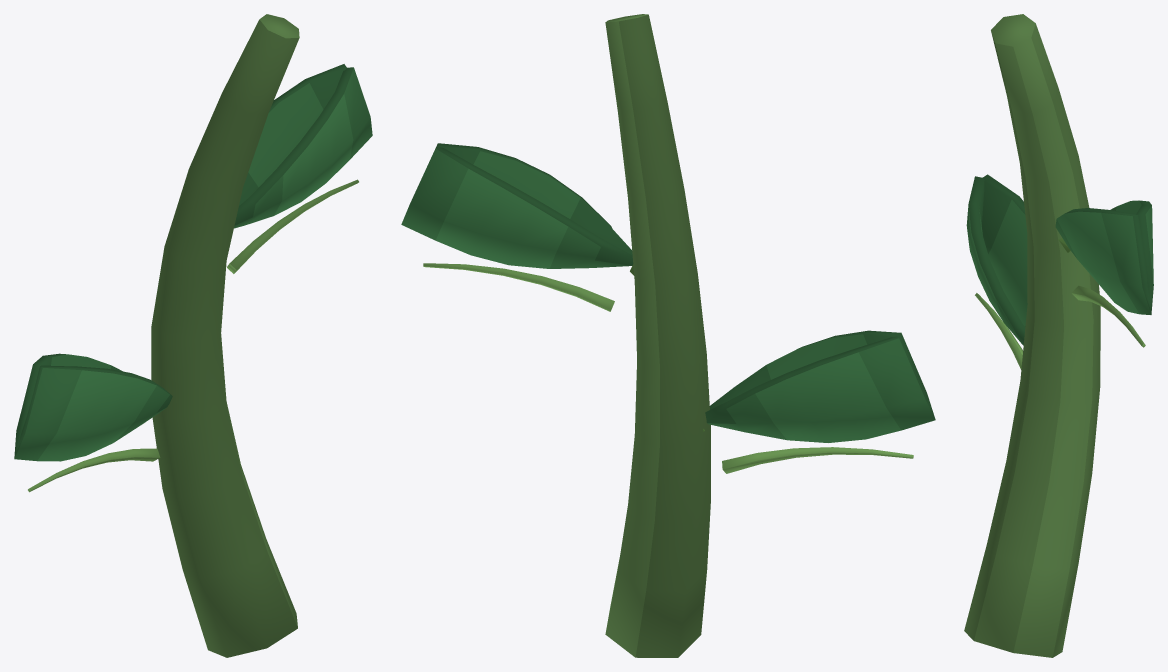
The model's file is garden-rose-sprout-stem-1.glb.
3 views of the same model, side by side, from view 1: azimuth 30°, elevation 25°; view 2: azimuth 150°, elevation 25°; view 3: azimuth 270°, elevation 25° (orthographic). The views are drawn at different scales.
Visible parts, largest first — view 1: rose-sprout-stem-1; view 2: rose-sprout-stem-1; view 3: rose-sprout-stem-1.
Part boxes in pixels (x1,y1,x2,y2): rose-sprout-stem-1: [14, 14, 372, 657]; rose-sprout-stem-1: [401, 14, 935, 657]; rose-sprout-stem-1: [964, 14, 1153, 657].
Bounding box in the file's own units: 0.0727 × 0.0971 × 0.0257.
